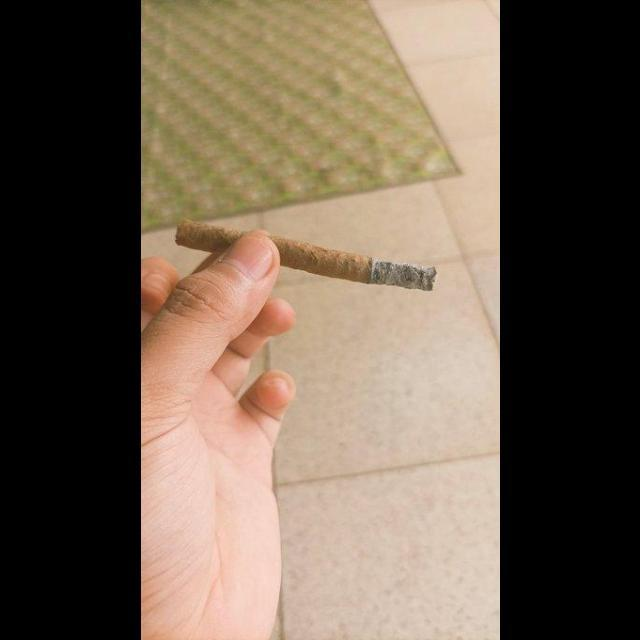rokok: (176, 212, 440, 298)
